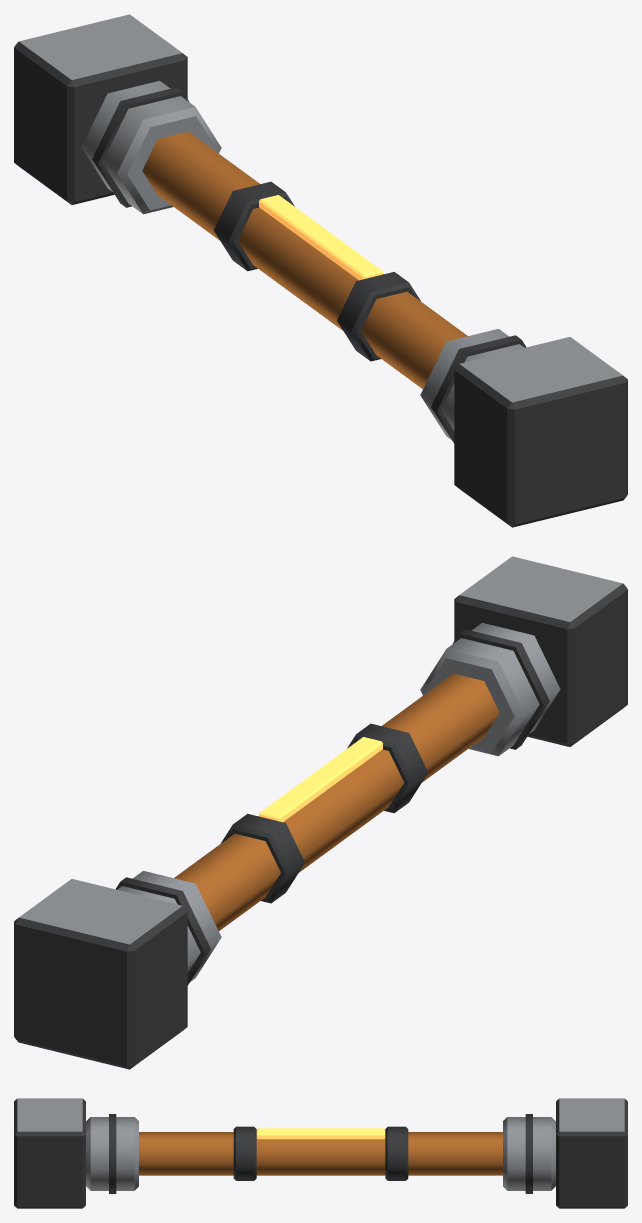
The model's file is R4C_ROD_STANDARD_LOD1.fbx.
3 renders of one model, top to bottom at view 1: azimuth 30°, elevation 25°; view 2: azimuth 150°, elevation 25°; view 3: azimuth 270°, elevation 25°, orthographic. The views are drawn at different scales.
Parts seen in each view (by area): view 1: R4C_ROD_STANDARD_LOD1; view 2: R4C_ROD_STANDARD_LOD1; view 3: R4C_ROD_STANDARD_LOD1.
Part boxes in pixels (<box>): R4C_ROD_STANDARD_LOD1: <box>14,14,627,527</box>; R4C_ROD_STANDARD_LOD1: <box>14,556,627,1069</box>; R4C_ROD_STANDARD_LOD1: <box>14,1098,627,1208</box>.
Size of the model in its own units: 0.226 by 0.224 by 1.62.
